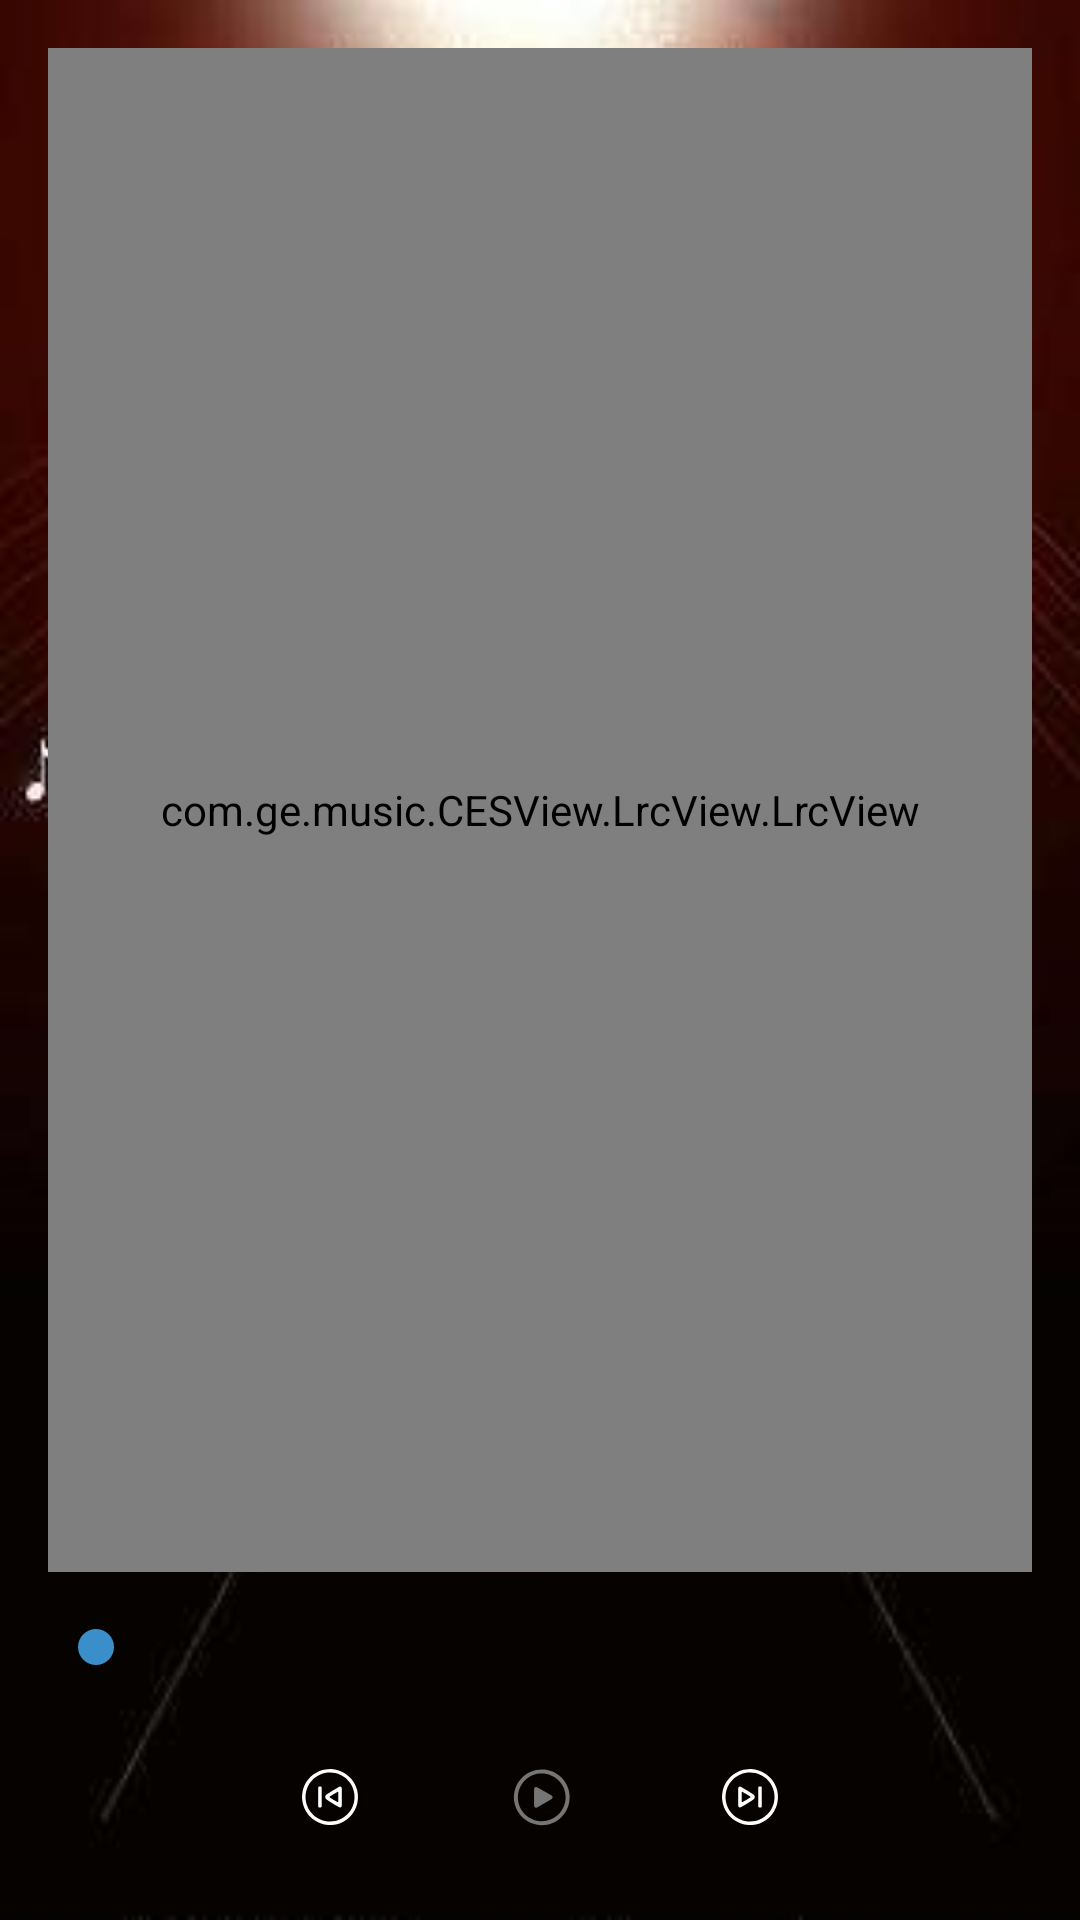

Named icons in this screenshot (1080x1920) and their centers, (x,y):
lrc next: (750,1797)
lrc play pause: (542,1797)
lrc pre: (330,1797)
